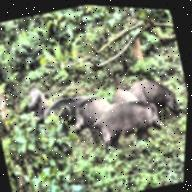boar: (82, 86, 171, 157), (119, 57, 189, 128), (35, 79, 97, 126), (71, 91, 113, 124), (107, 78, 139, 111), (24, 84, 48, 116)
